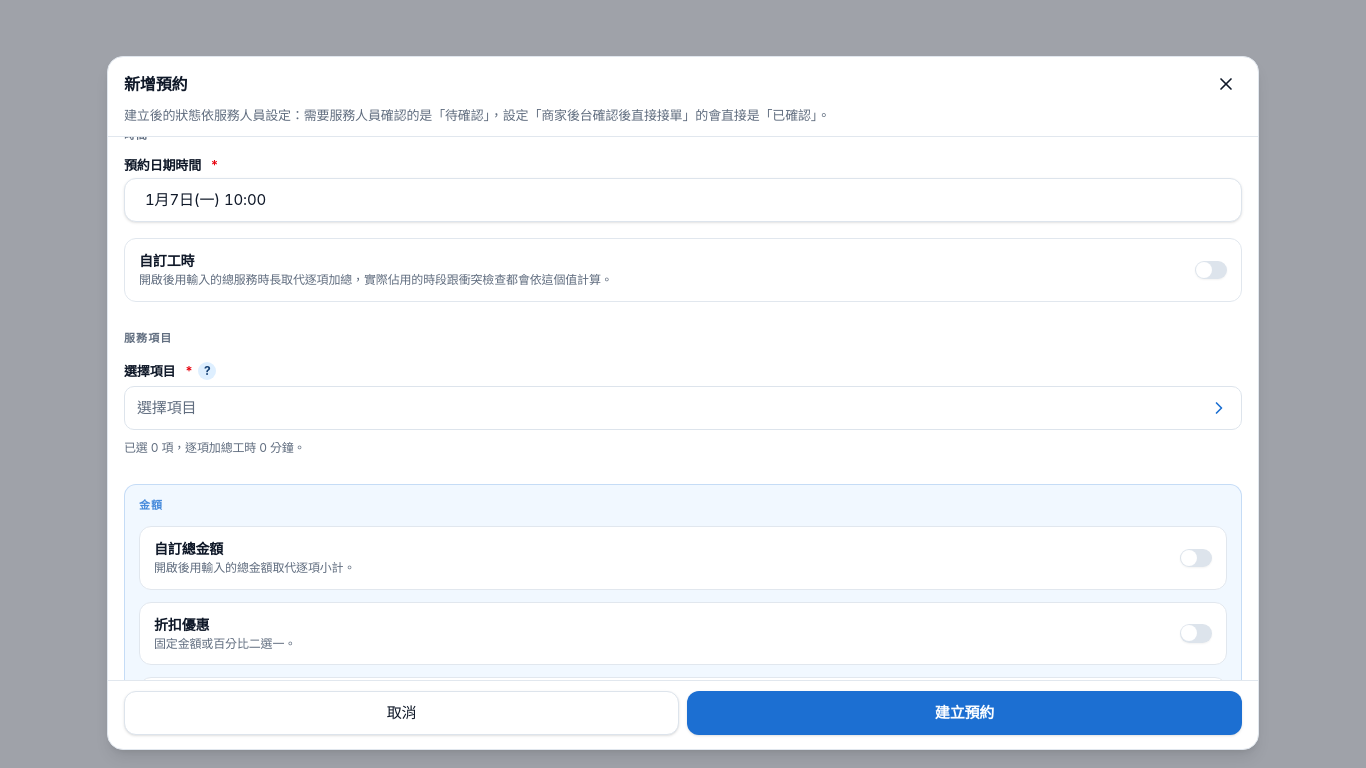
it: 建單表單 × 選擇項目整頁(#979) › 整頁開著按 Esc ⇒ 只關整頁(等同返回),整張建單表單不會被關掉
(page scrolled)
Click the button with id "booking-service-items" at (167, 408), box top-left (124, 386), bottom-right (1242, 430)
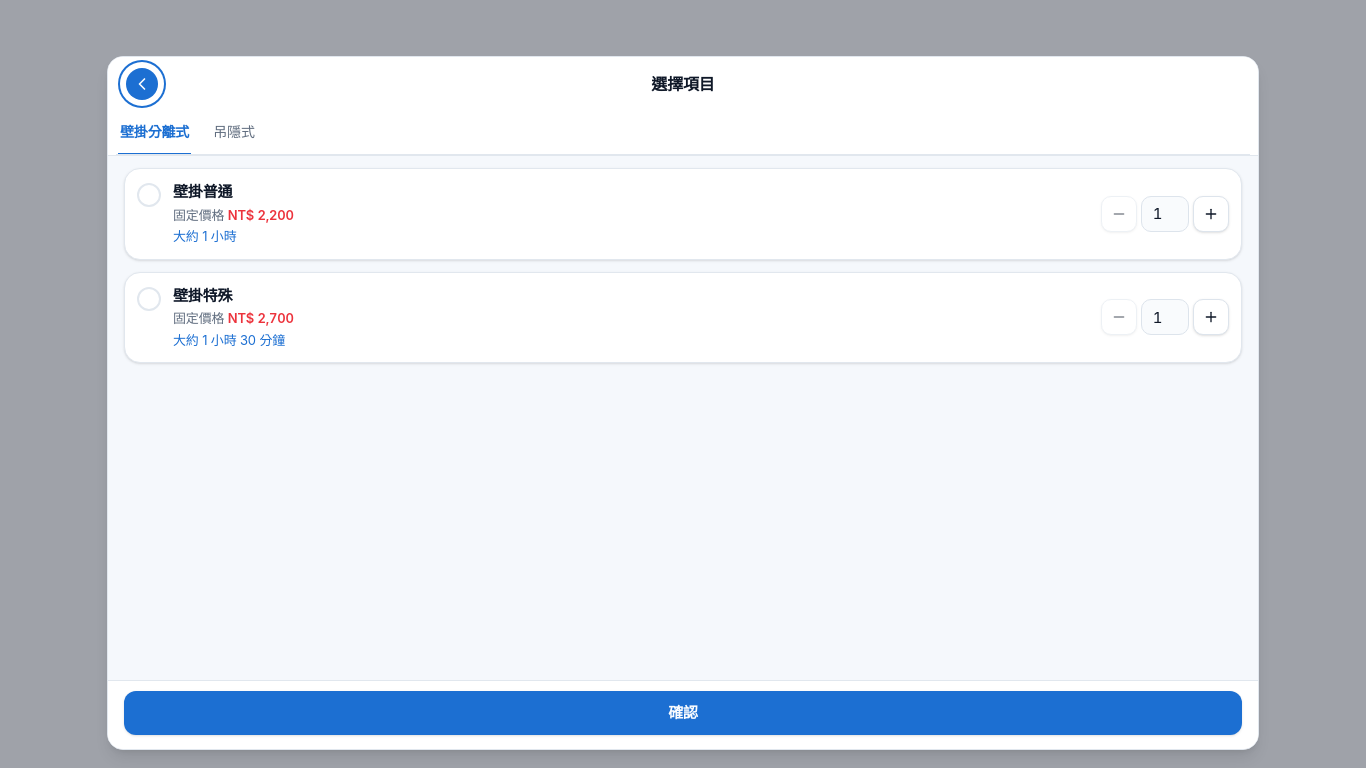
Click the checkbox labelled "壁掛普通 固定價格 NT$ 2,200 大約 1 小時" at (203, 192), box top-left (137, 181), bottom-right (1093, 246)
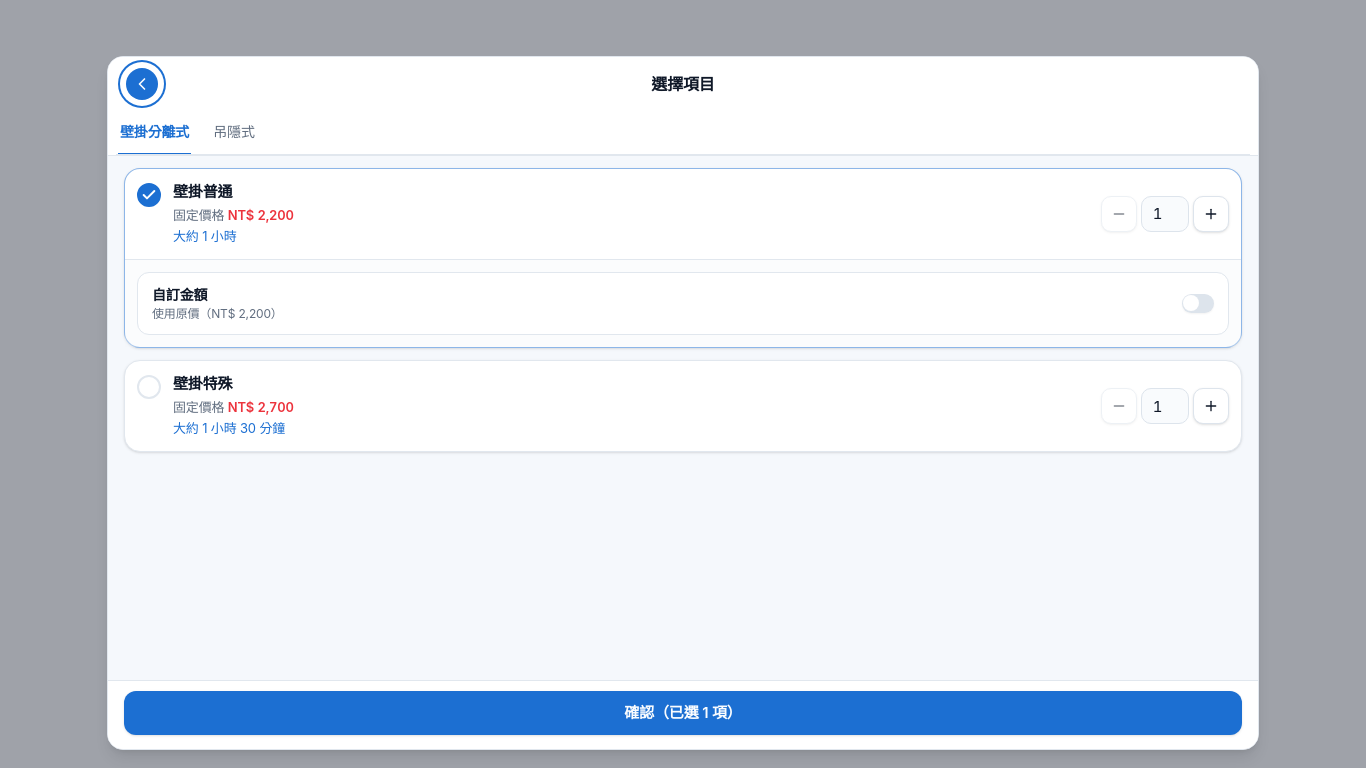
Press Escape in the element with test id "service-item-picker"
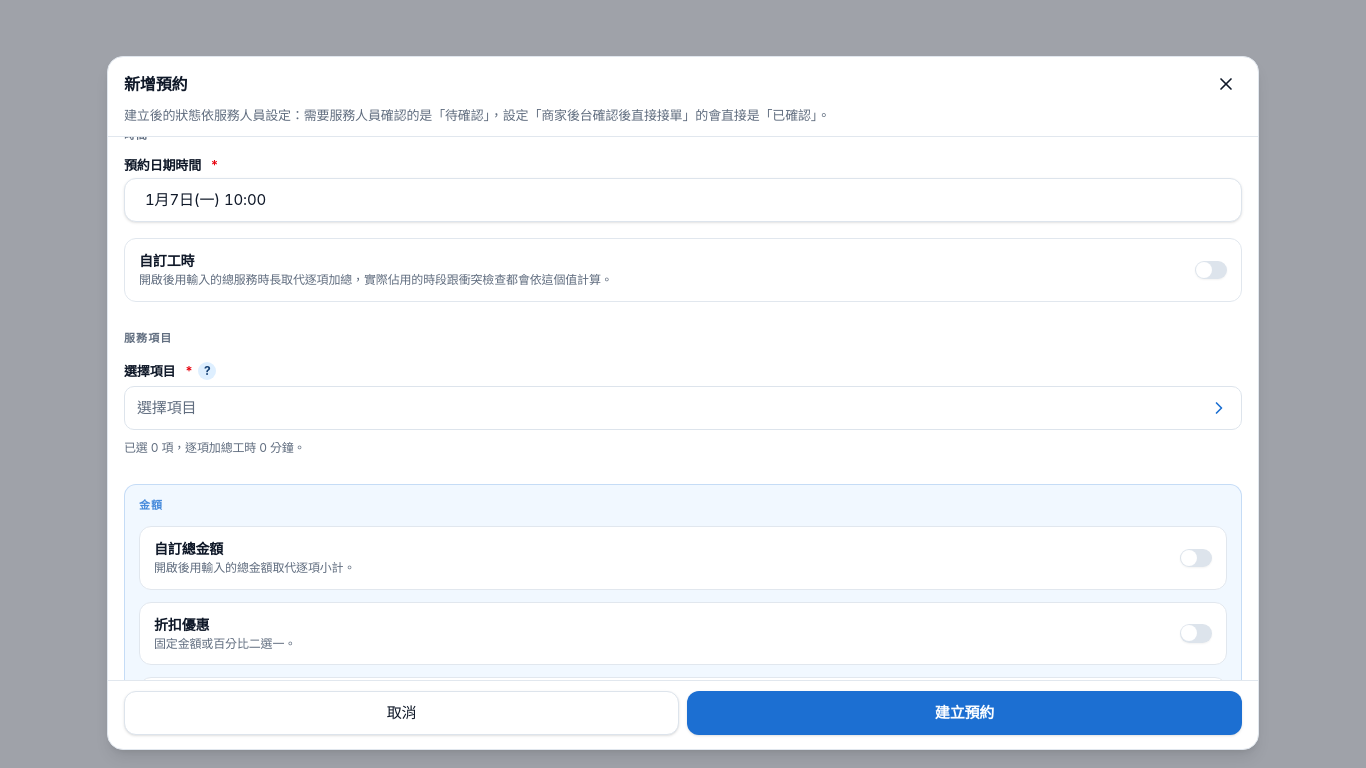
Check: the element with test id "service-item-picker" is gone
